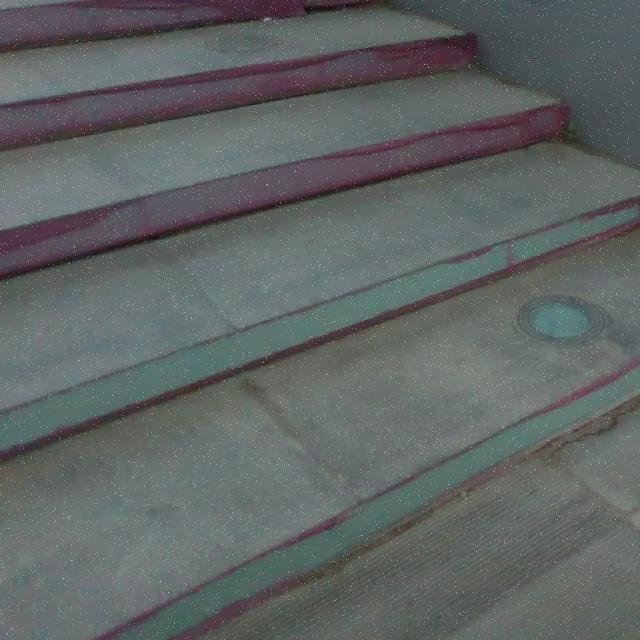stair: (0, 0, 574, 588)
